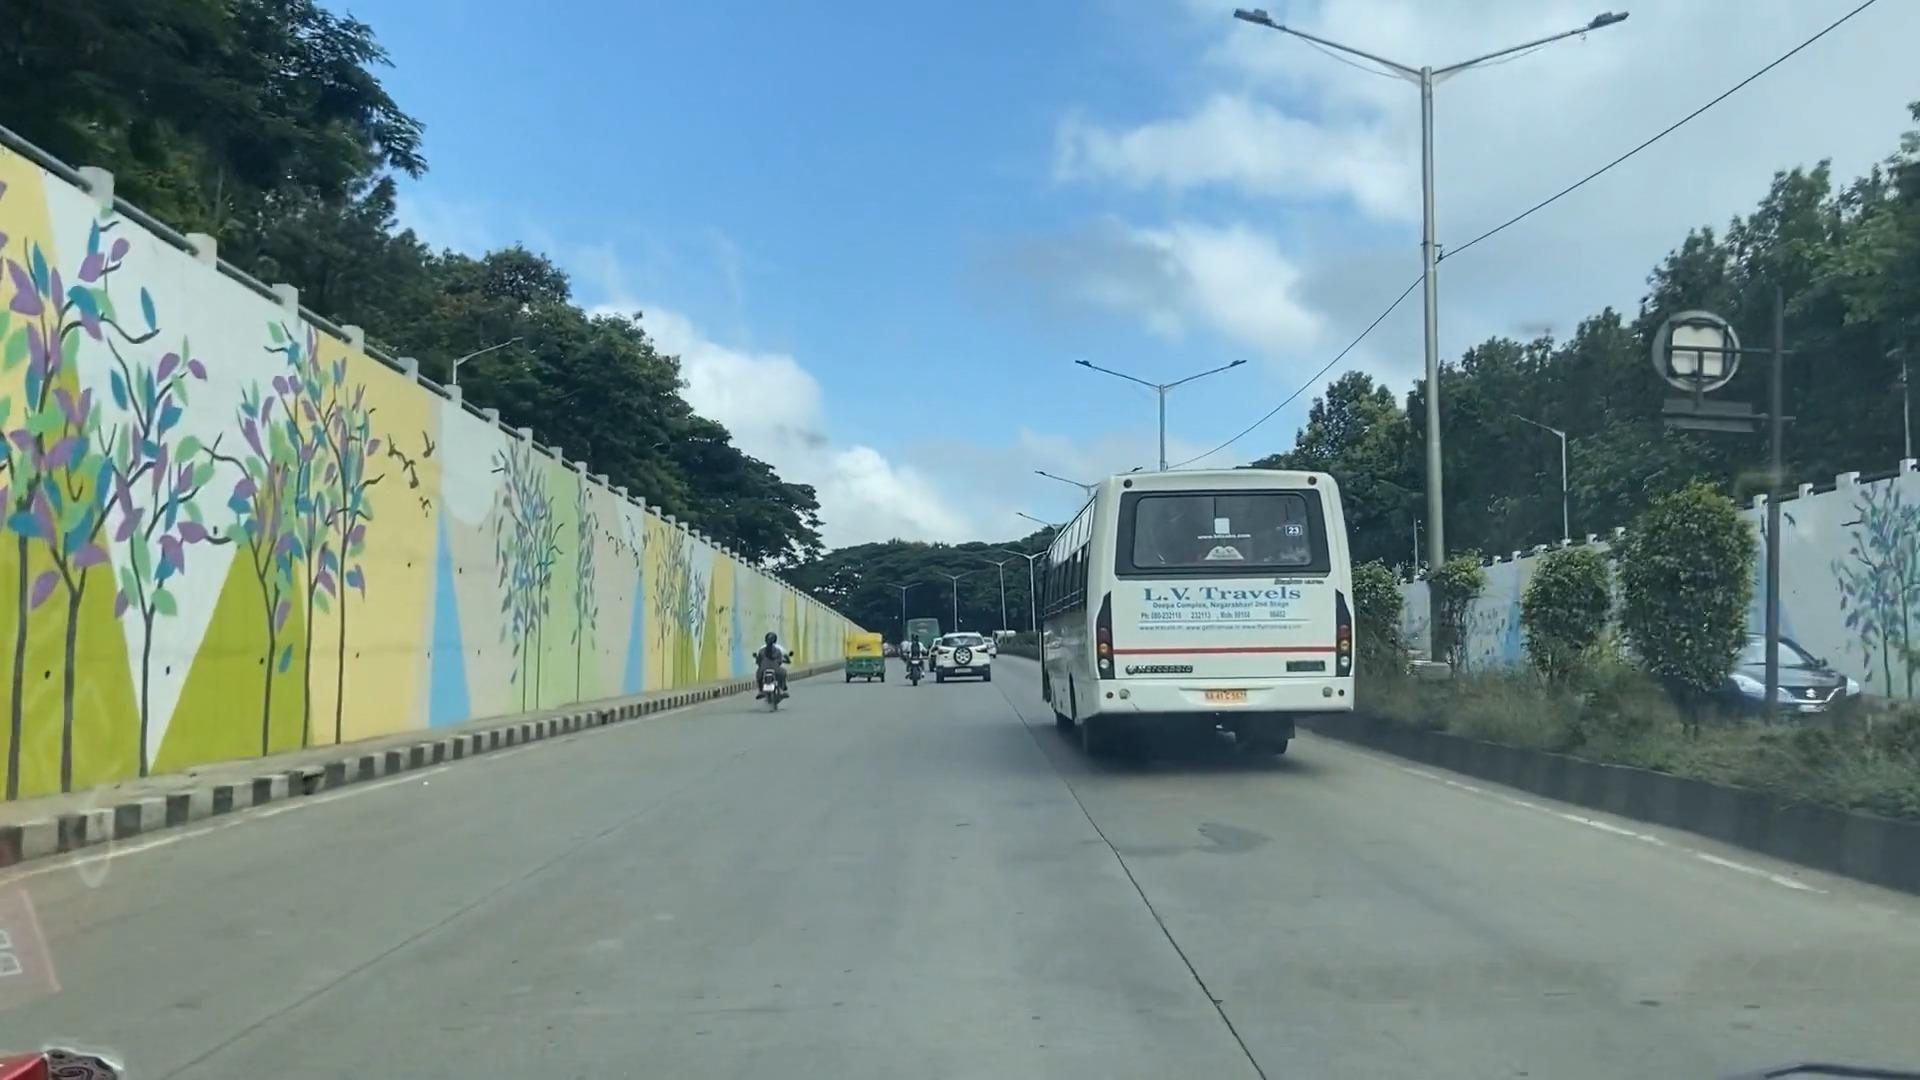HMV: (1048, 481, 1358, 744)
LMV: (754, 632, 787, 707)
UnsurfacedRoad: (1014, 794, 1280, 910)
